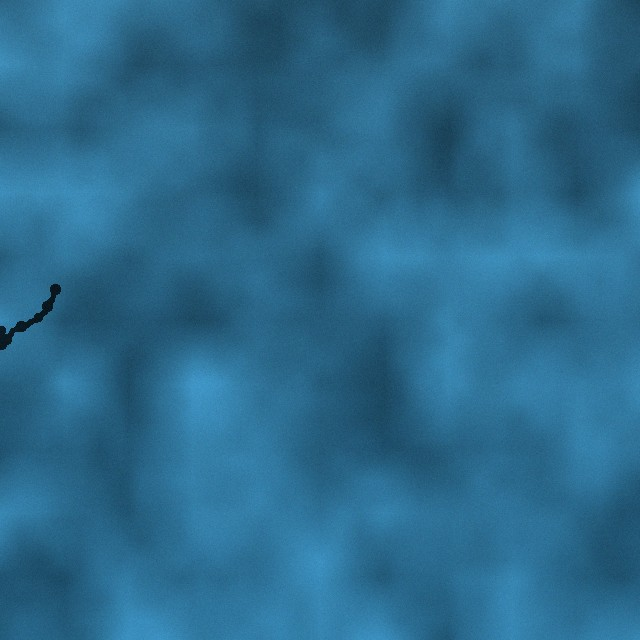crack: (0, 284, 60, 353)
